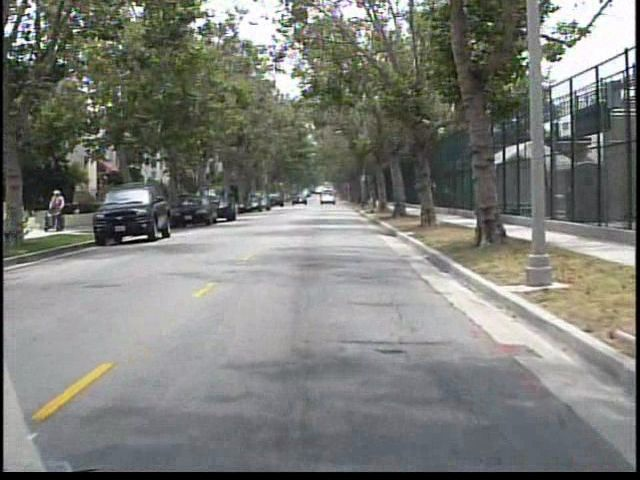person: (49, 188, 71, 234)
